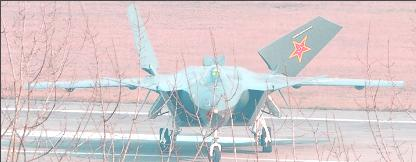F4: (23, 1, 402, 162)
